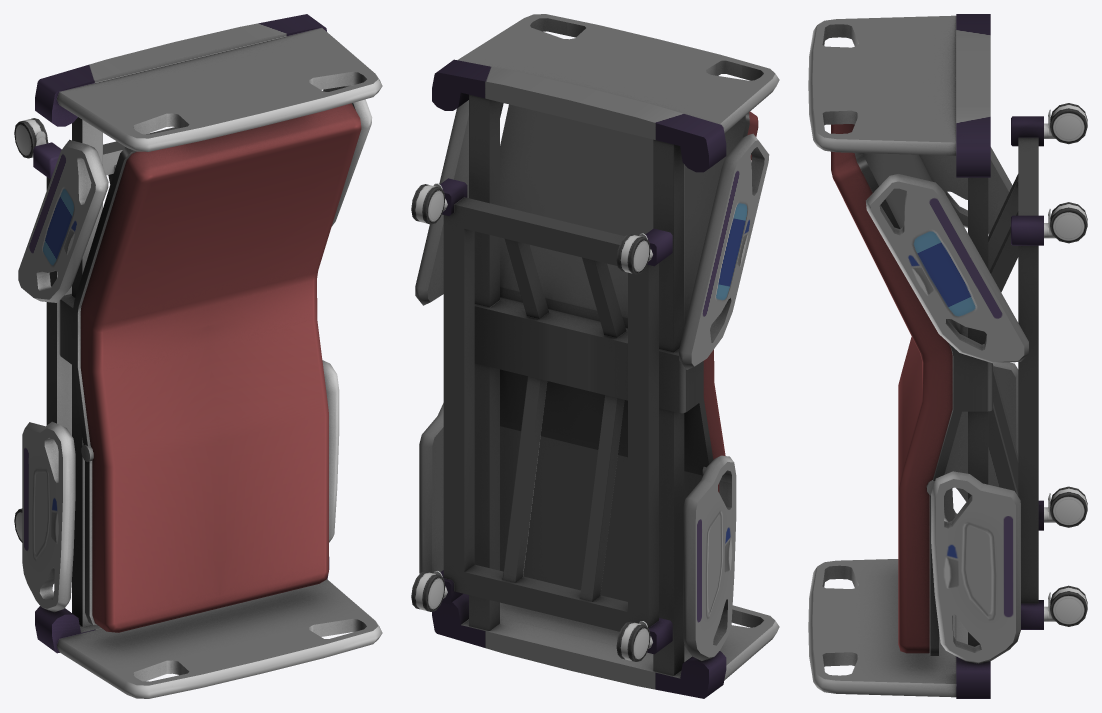
Rendered from CGMVanguard.obj.
3 views of the same model, side by side, from view 1: azimuth 30°, elevation 25°; view 2: azimuth 150°, elevation 25°; view 3: azimuth 270°, elevation 25° (orthographic).
Parts seen in each view (by area): view 1: CGMVanguard; view 2: CGMVanguard; view 3: CGMVanguard.
Boxes of the visible parts, <box> form: CGMVanguard: <box>14,14,382,698</box>; CGMVanguard: <box>411,14,779,698</box>; CGMVanguard: <box>808,14,1087,698</box>.
Bounding box in the file's own units: 109 × 214 × 96.01.
Materials: 2 (2 with a texture image).
